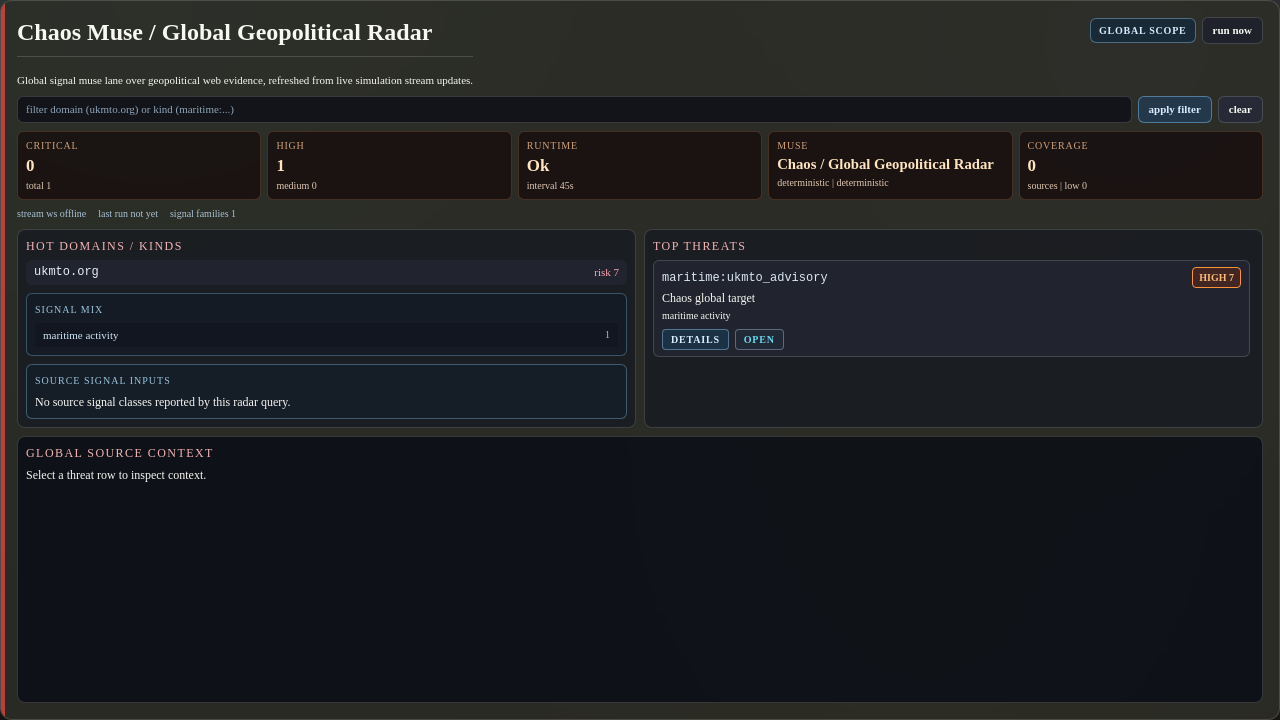
ThreatRadarPanel › supports fixed global mode and routes ask requests to assigned chaos muse
Expected: the heading "Chaos Muse / Global Geopolitical Radar" is shown, [17, 17, 473, 57]
Expected: the text "Chaos global target" is shown, [662, 291, 755, 305]
Click the button "details" at (695, 340), box [662, 329, 729, 350]
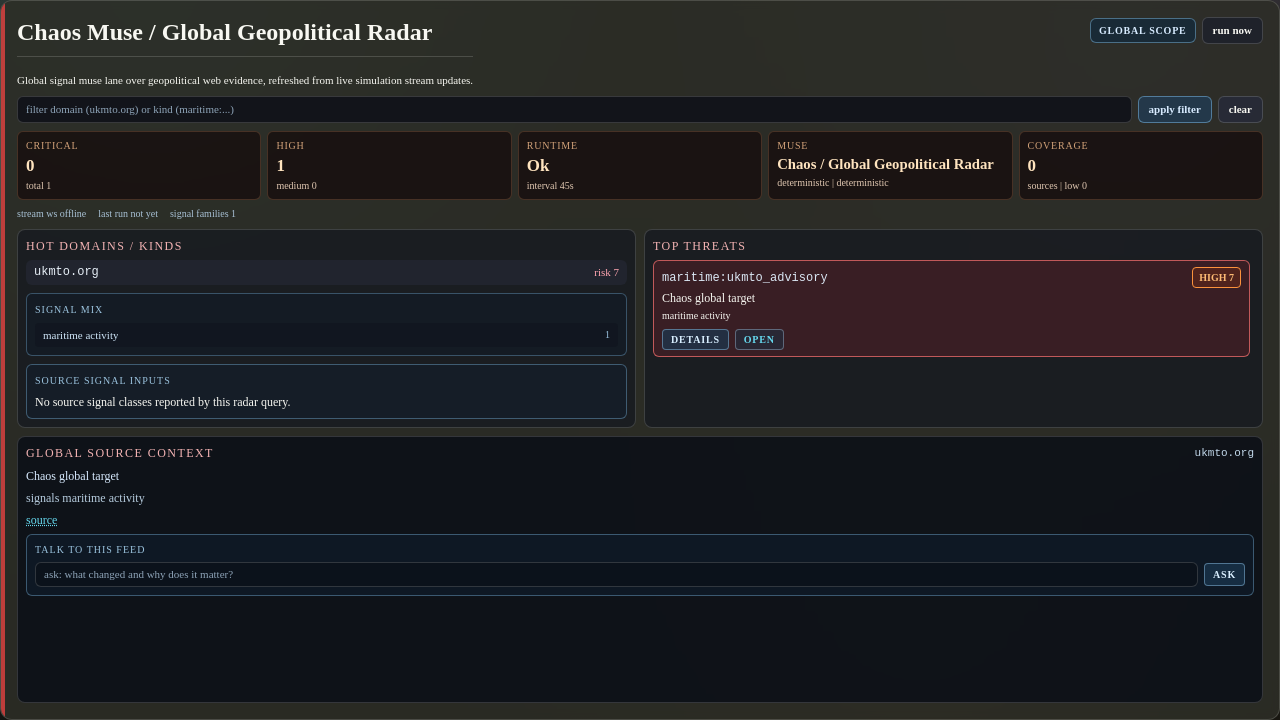
Now the text "talk to this feed" is shown, box [35, 544, 145, 555]
Type "Give me one immediate check." into the field with placeholder "ask: what changed and why does it matter?" at (616, 574), box [35, 562, 1198, 587]
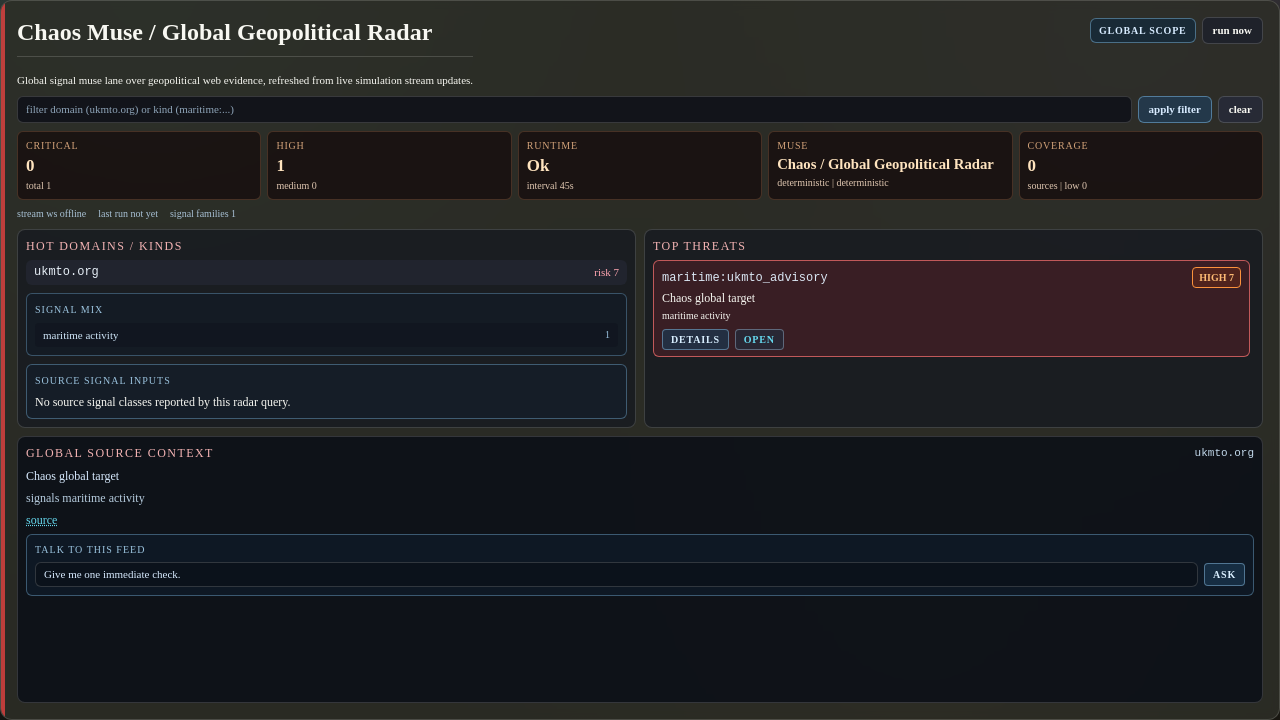
Click the button "ask" at (1224, 574), box [1204, 563, 1245, 586]
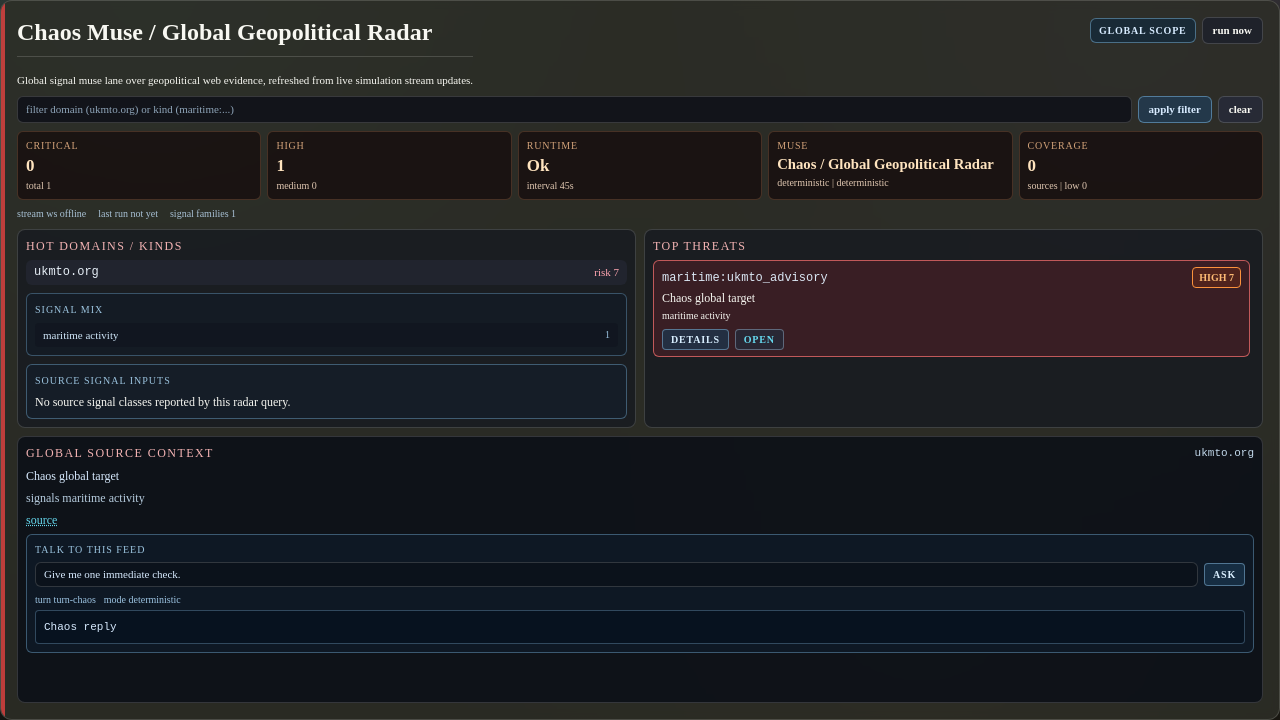
Now the text "Chaos reply" is shown, box [35, 610, 1245, 644]
